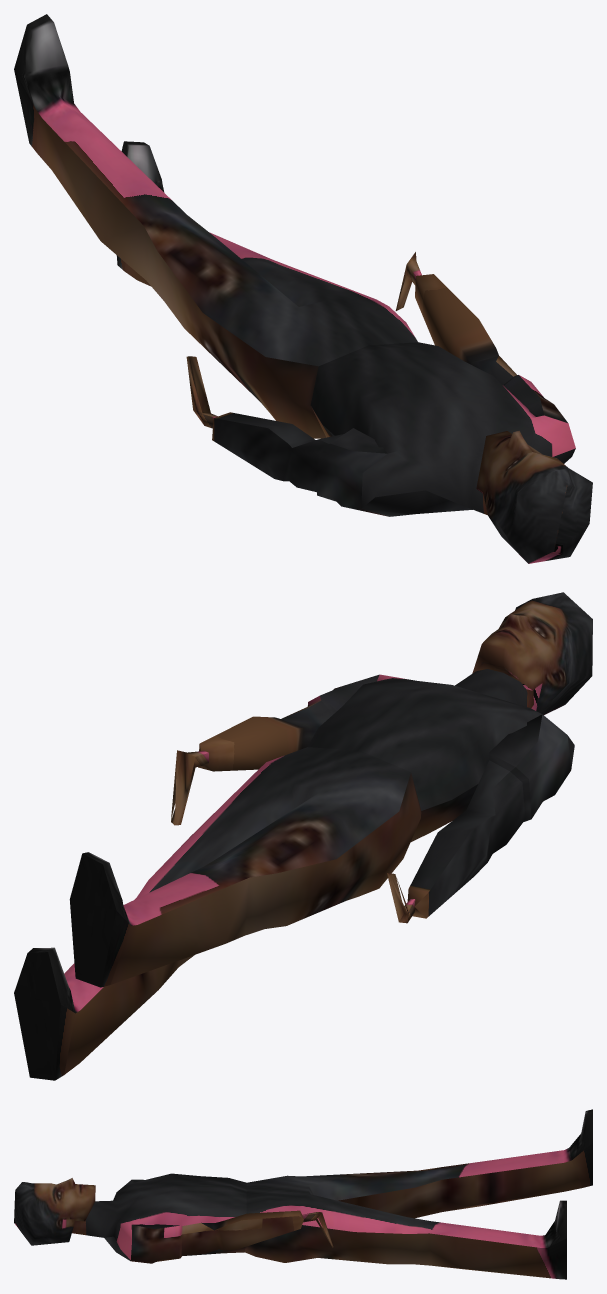
File: npc_raka_walk4.obj
The picture shows the model from 3 angles, top to bottom: view 1: azimuth 30°, elevation 25°; view 2: azimuth 150°, elevation 25°; view 3: azimuth 270°, elevation 25°; orthographic projection. The views are drawn at different scales.
Parts seen in each view (by area): view 1: npc_raka_walk4; view 2: npc_raka_walk4; view 3: npc_raka_walk4.
Part boxes in pixels (x1,y1,x2,y2): npc_raka_walk4: (14,14,592,563); npc_raka_walk4: (14,592,592,1080); npc_raka_walk4: (14,1109,592,1279).
Bounding box in the file's own units: 0.4684 × 0.4918 × 1.75.
Materials: 1 (1 with a texture image).
